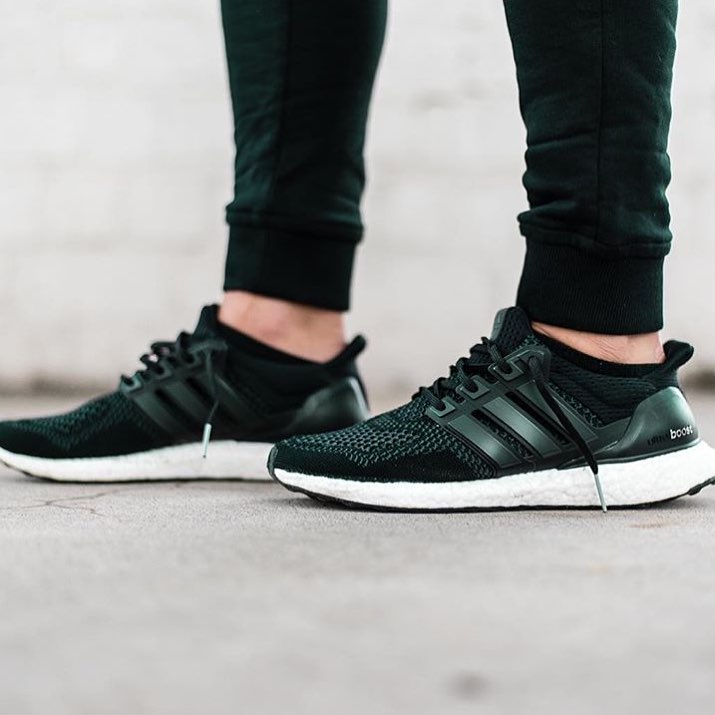sneaker: (245, 283, 715, 535), (1, 269, 383, 501)
